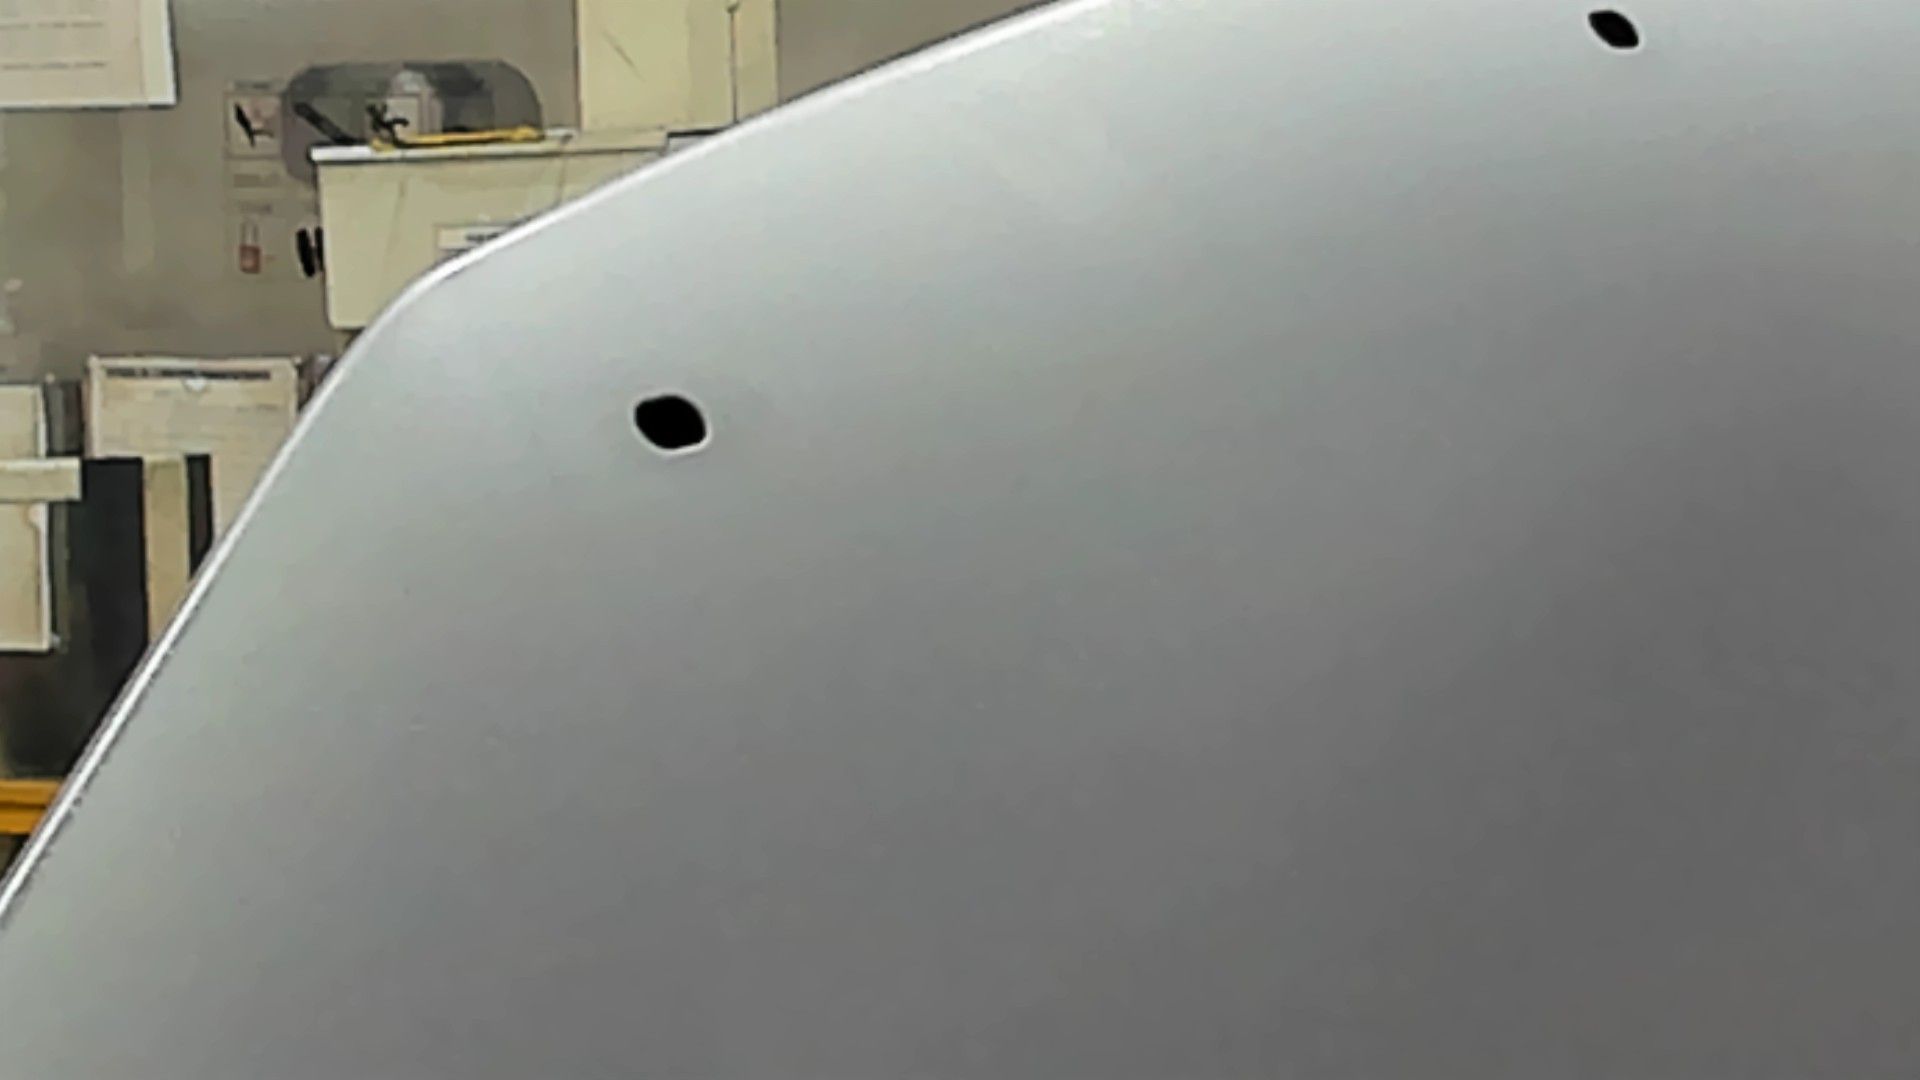Agujero: (632, 392, 709, 454), (1586, 7, 1642, 51)
